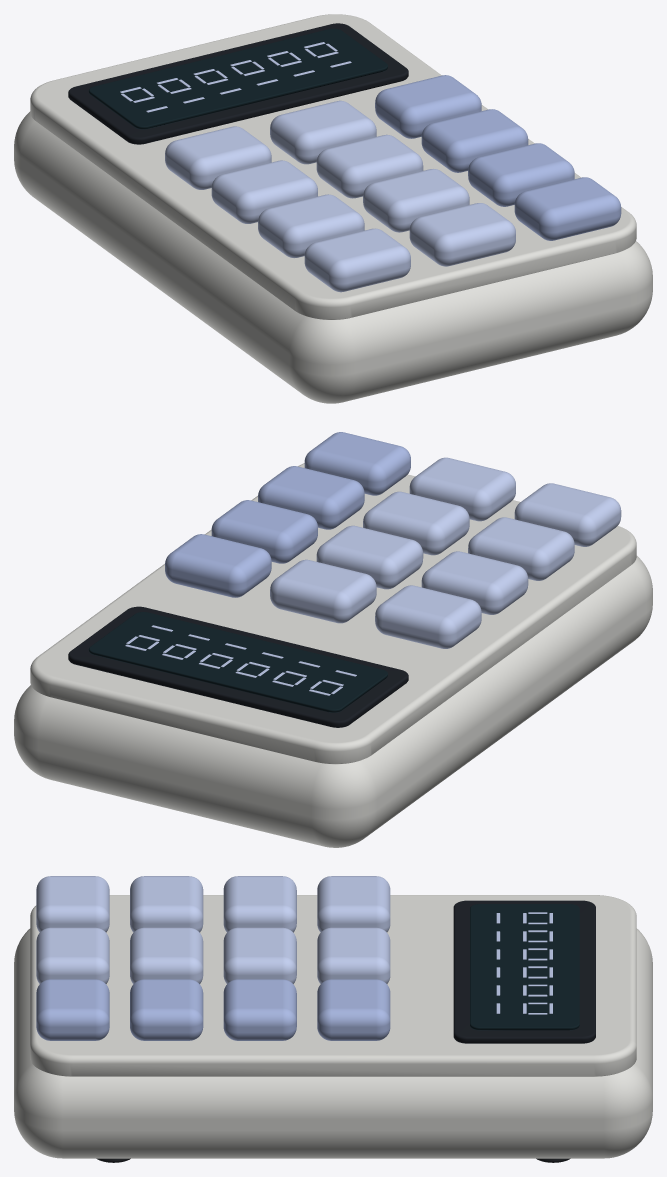
The model's file is calculator.glb.
3 renders of one model, top to bottom at view 1: azimuth 30°, elevation 25°; view 2: azimuth 150°, elevation 25°; view 3: azimuth 270°, elevation 25°, orthographic.
Visible parts, largest first — view 1: closed-calculator-case-001, matching-radius-calculator-top-deck, fitted-rounded-panel (×2), wave-keycap-4-3, wave-keycap-4-1, wave-keycap-4-2, wave-keycap-2-3, wave-keycap-2-2, wave-keycap-3-2, wave-keycap-1-3, wave-keycap-1-2, wave-keycap-2-1 (+3 smaller); view 2: closed-calculator-case-001, matching-radius-calculator-top-deck, fitted-rounded-panel (×2), wave-keycap-1-3, wave-keycap-1-1, wave-keycap-1-2, wave-keycap-2-1, wave-keycap-2-2, wave-keycap-3-2, wave-keycap-4-2, wave-keycap-3-1, wave-keycap-4-1 (+3 smaller); view 3: closed-calculator-case-001, matching-radius-calculator-top-deck, fitted-rounded-panel (×2), wave-keycap-4-3, wave-keycap-1-3, wave-keycap-2-3, wave-keycap-3-3, wave-keycap-1-2, wave-keycap-2-2, wave-keycap-4-2, wave-keycap-3-2, wave-keycap-1-1 (+3 smaller).
Part boxes in pixels (<box>): closed-calculator-case-001: <box>14,111,652,403</box>; matching-radius-calculator-top-deck: <box>30,14,636,319</box>; fitted-rounded-panel (×2): <box>68,23,408,144</box>; wave-keycap-4-3: <box>514,177,621,240</box>; wave-keycap-4-1: <box>304,228,410,292</box>; wave-keycap-4-2: <box>409,203,515,266</box>; wave-keycap-2-3: <box>421,109,528,172</box>; wave-keycap-2-2: <box>316,134,423,198</box>; wave-keycap-3-2: <box>363,169,469,232</box>; wave-keycap-1-3: <box>375,75,481,138</box>; wave-keycap-1-2: <box>270,100,376,164</box>; wave-keycap-2-1: <box>211,160,317,223</box>; closed-calculator-case-001: <box>14,556,652,847</box>; matching-radius-calculator-top-deck: <box>30,463,636,764</box>; fitted-rounded-panel (×2): <box>68,606,408,727</box>; wave-keycap-1-3: <box>165,534,271,597</box>; wave-keycap-1-1: <box>375,585,481,648</box>; wave-keycap-1-2: <box>270,559,376,623</box>; wave-keycap-2-1: <box>421,551,528,614</box>; wave-keycap-2-2: <box>316,525,423,589</box>; wave-keycap-3-2: <box>363,491,469,555</box>; wave-keycap-4-2: <box>409,457,515,521</box>; wave-keycap-3-1: <box>468,517,574,580</box>; wave-keycap-4-1: <box>514,483,621,546</box>; closed-calculator-case-001: <box>14,928,652,1158</box>; matching-radius-calculator-top-deck: <box>30,895,636,1076</box>; fitted-rounded-panel (×2): <box>453,900,595,1043</box>; wave-keycap-4-3: <box>36,979,109,1040</box>; wave-keycap-1-3: <box>317,979,390,1040</box>; wave-keycap-2-3: <box>223,979,296,1040</box>; wave-keycap-3-3: <box>130,979,203,1040</box>; wave-keycap-1-2: <box>317,927,390,983</box>; wave-keycap-2-2: <box>223,927,296,983</box>; wave-keycap-4-2: <box>36,927,109,983</box>; wave-keycap-3-2: <box>130,927,203,983</box>; wave-keycap-1-1: <box>317,876,390,932</box>.
Size of the model in its own units: 1.3 by 0.5357 by 2.
